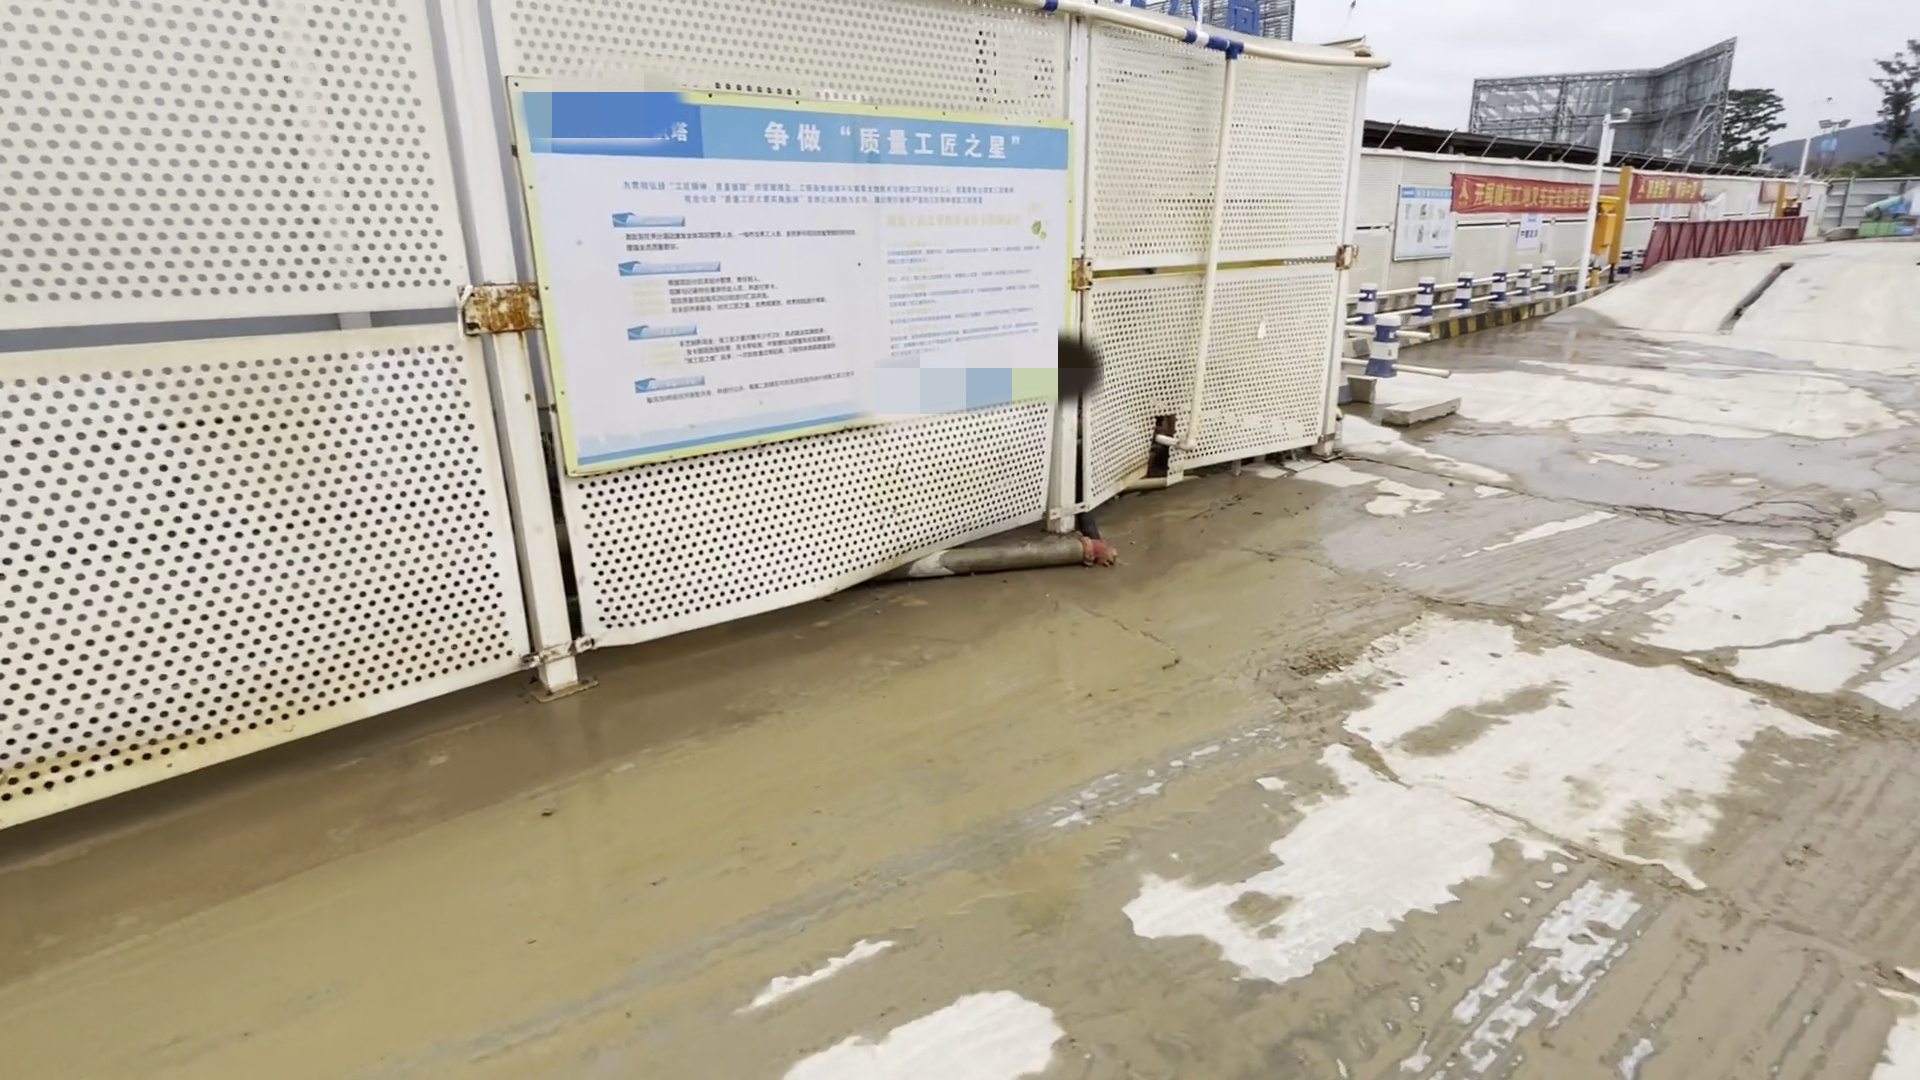slogan: (516, 83, 1077, 448)
